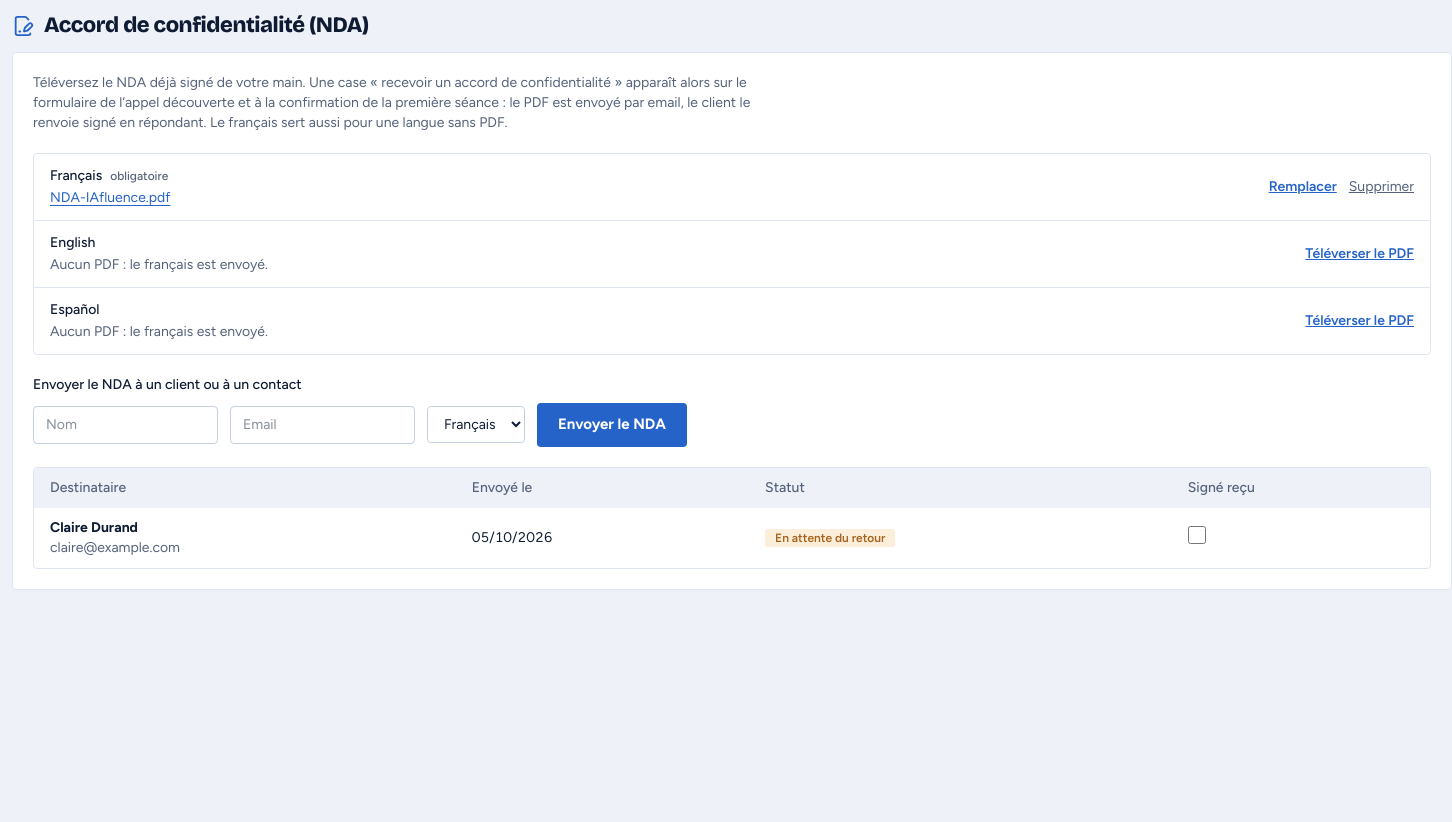
Scenario: NdaAgreement › sends the agreement to a contact in their language, then clears the form
Expected: the link "NDA-IAfluence.pdf" is shown, [50,188,170,206]
Type "Paul" into the field named "Nom du destinataire" at (126, 424), box [33,406,218,444]
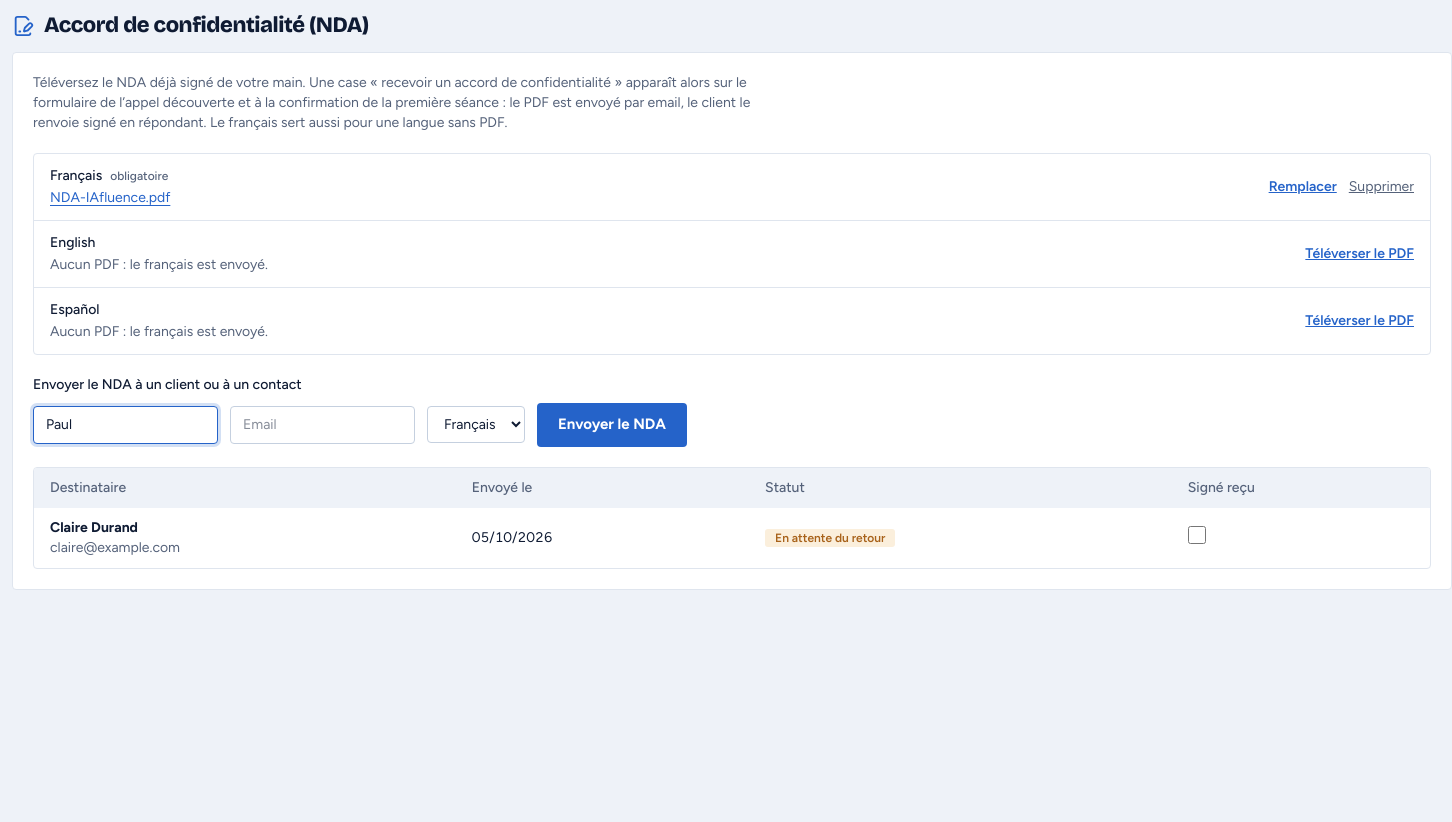
Type "paul@example.com" into the field named "Email du destinataire" at (322, 424), box [230,406,415,444]
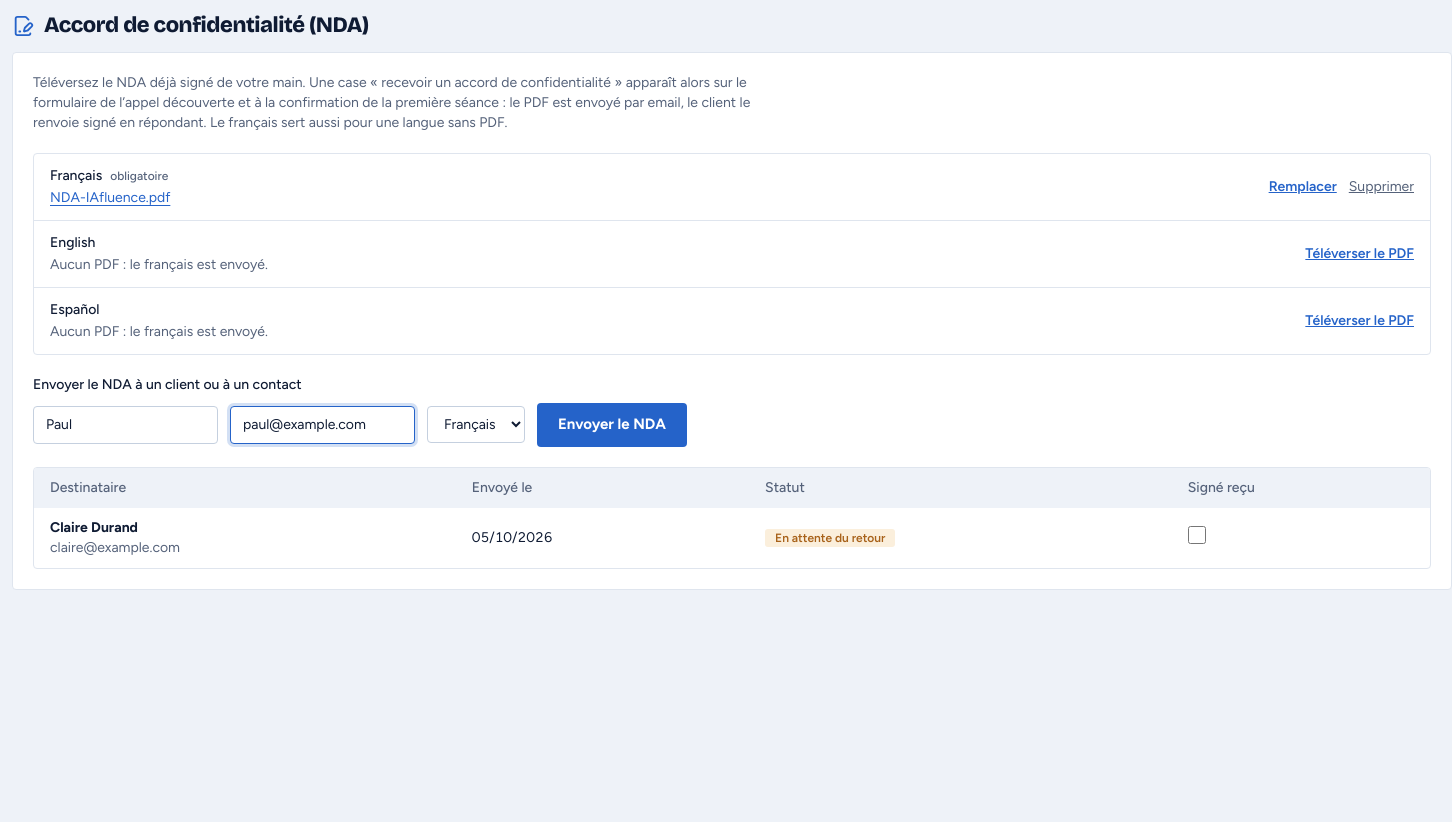
Select "Español" in the dropdown named "Langue de l’email" at (476, 424), box [427,406,525,443]
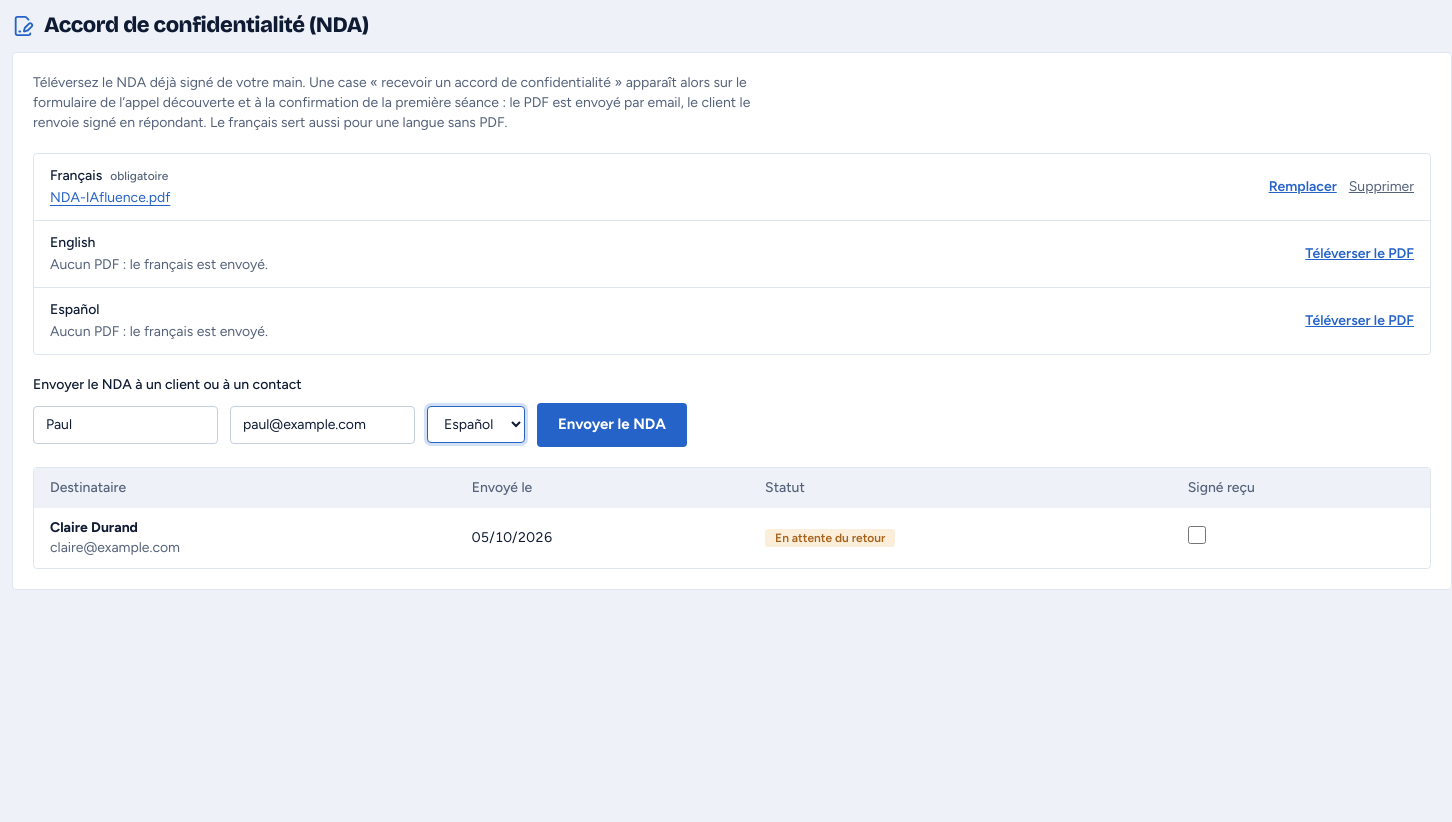
Click the button "Envoyer le NDA" at (612, 424), box [537,402,687,446]
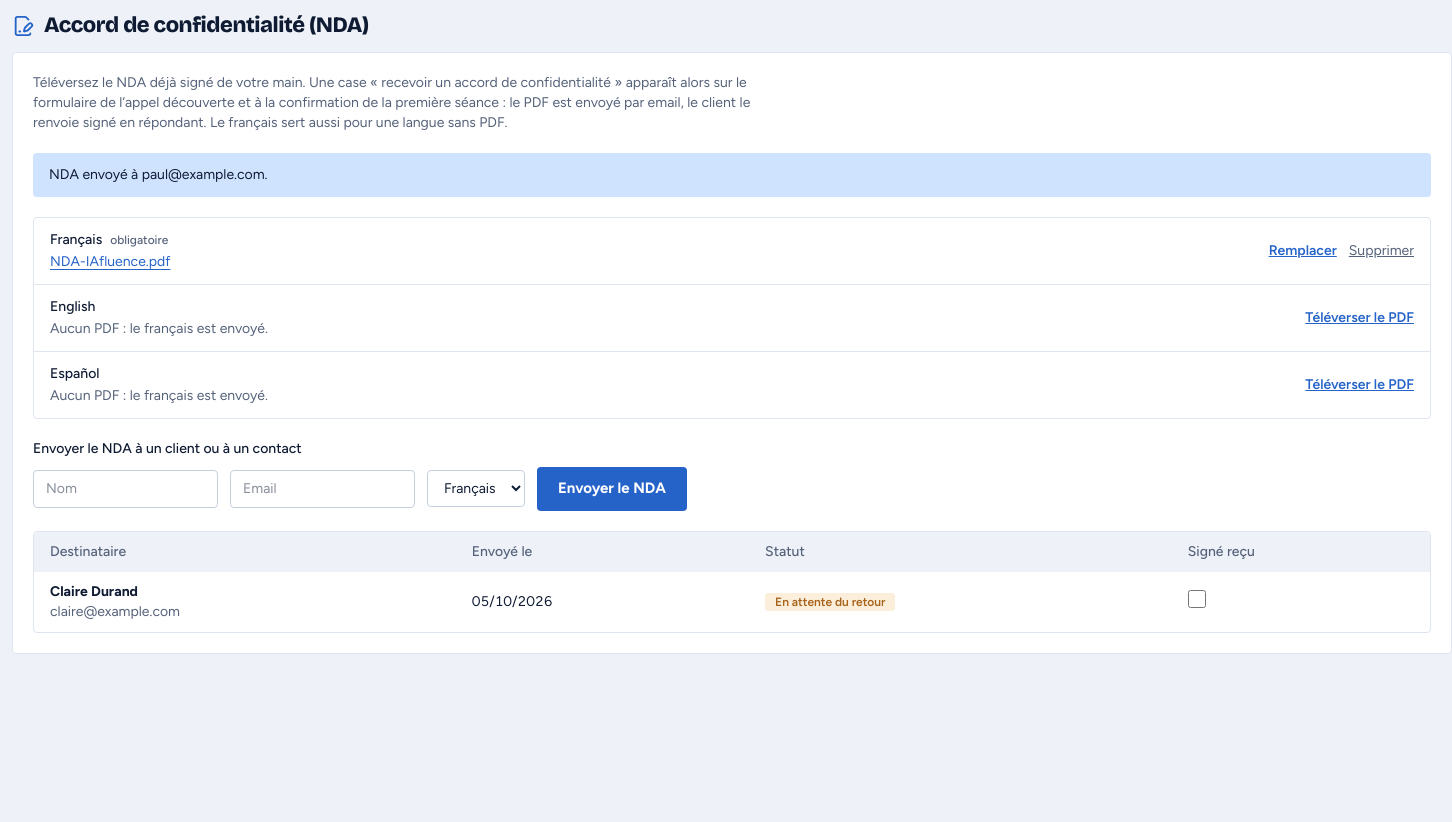
Now the message reads "NDA envoyé à paul@example.com.", box [49,166,268,182]
Now the field named "Nom du destinataire" is empty, box [33,470,218,508]
